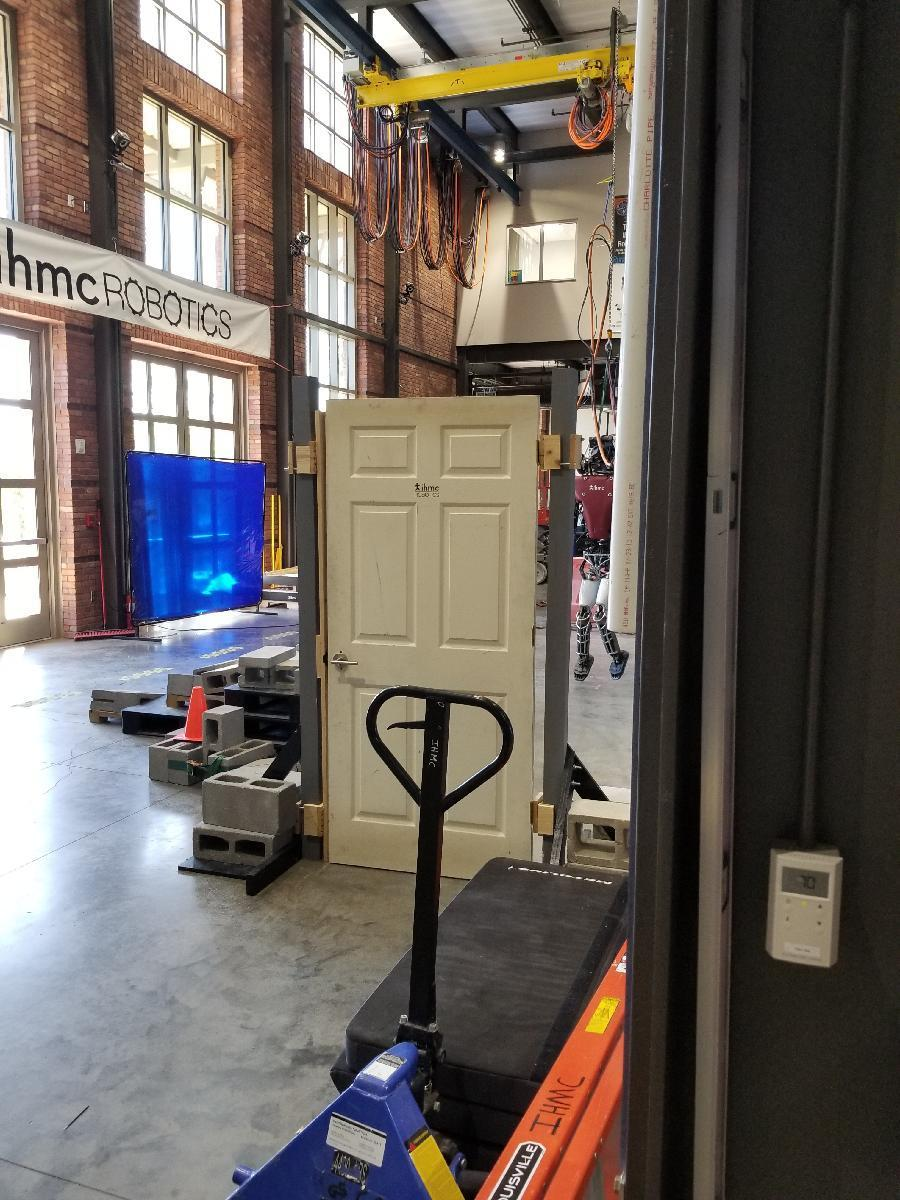door: (324, 396, 548, 884)
handle: (330, 651, 360, 672)
